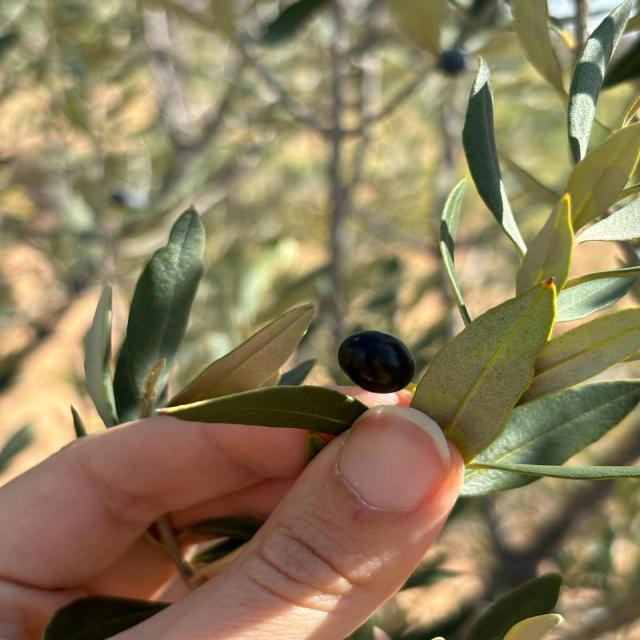Healthy: (167, 304, 315, 407), (157, 386, 369, 436), (339, 331, 417, 394)
